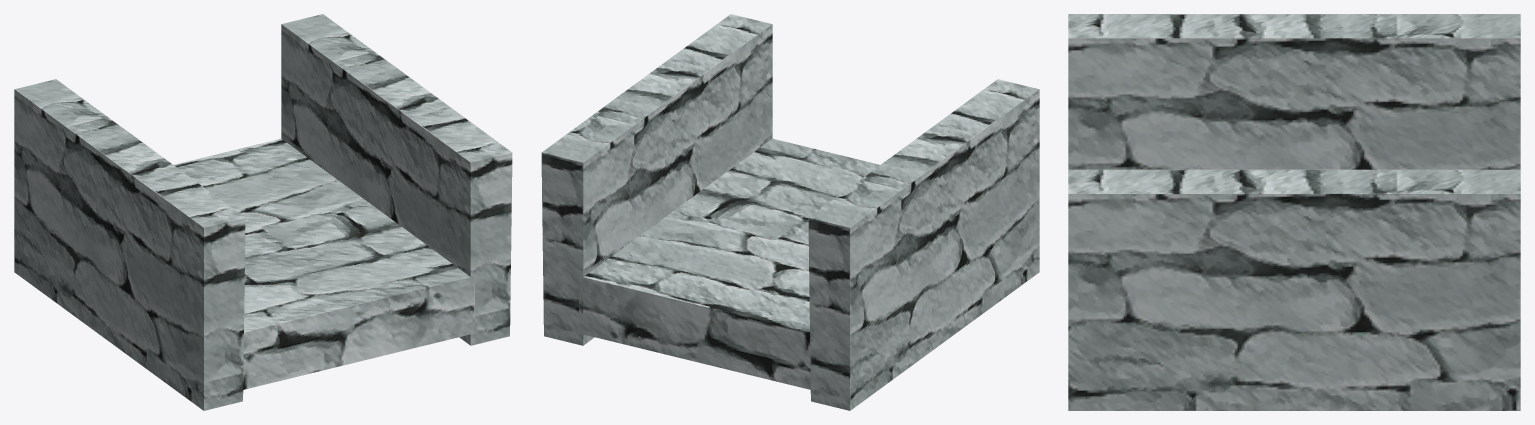
File: SM_Bridge_03.fbx
3 views of the same model, side by side, from view 1: azimuth 30°, elevation 25°; view 2: azimuth 150°, elevation 25°; view 3: azimuth 270°, elevation 25° (orthographic). The views are drawn at different scales.
Visible parts, largest first — view 1: SM_Bridge_03; view 2: SM_Bridge_03; view 3: SM_Bridge_03.
Boxes of the visible parts, x1,y1,x2,y2 form: SM_Bridge_03: (14, 14, 512, 410); SM_Bridge_03: (541, 14, 1039, 410); SM_Bridge_03: (1068, 14, 1520, 410).
Bounding box in the file's own units: 28.23 × 16 × 30.
